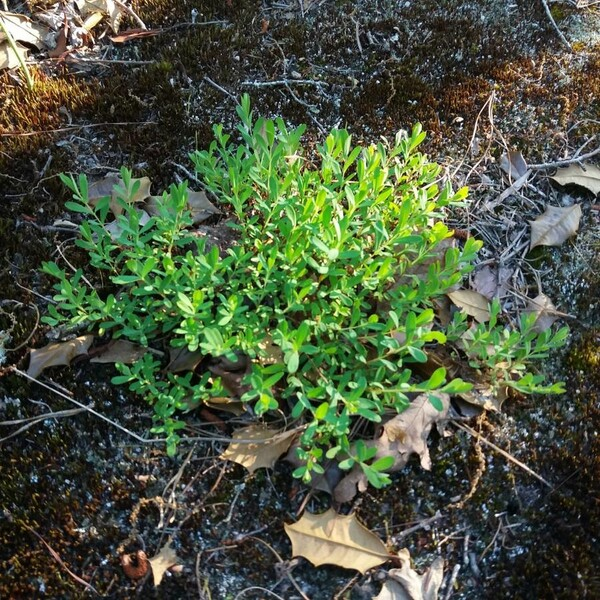obstacle: (127, 96, 565, 455)
